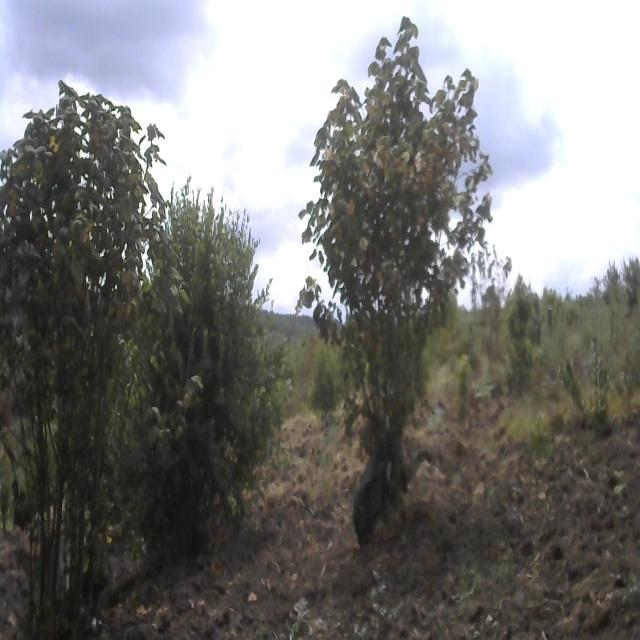Dombeya torrida: (301, 11, 495, 506), (0, 86, 170, 598)
Olea europea -africana-: (121, 182, 282, 550)
